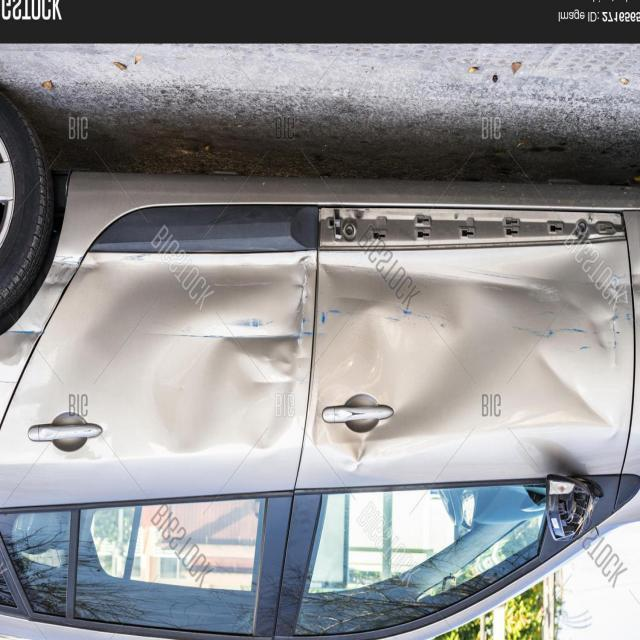dent: (35, 246, 319, 515), (332, 247, 614, 478)
